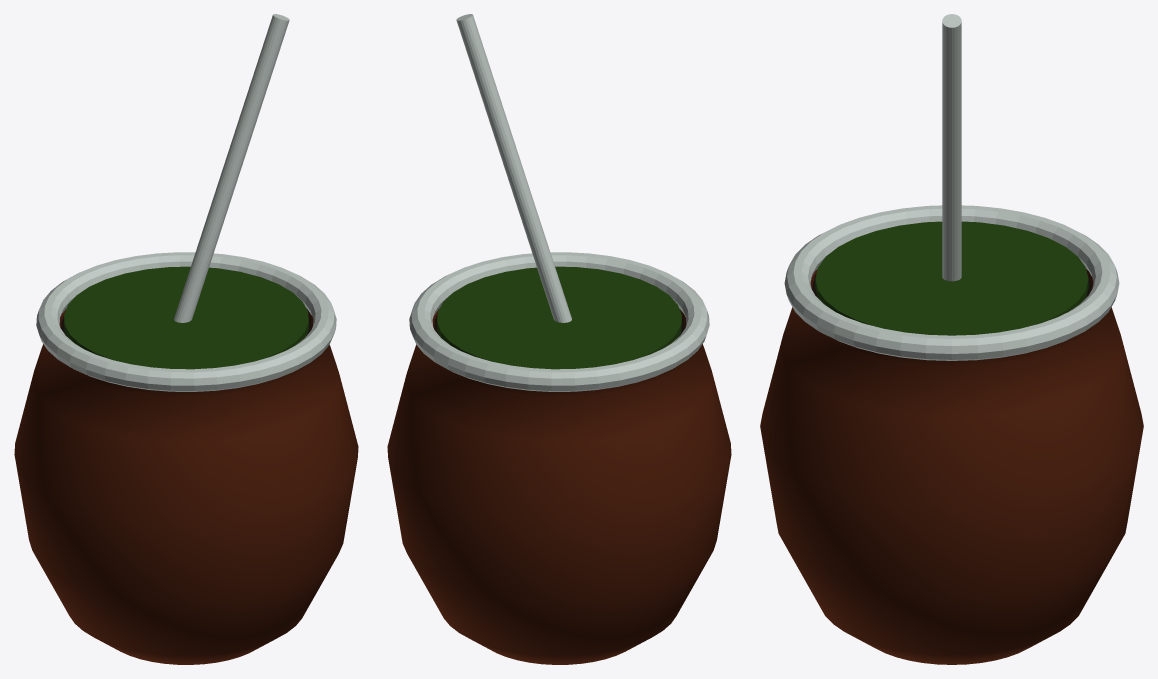
File: MatePreparado3D.fbx
3 views of the same model, side by side, from view 1: azimuth 30°, elevation 25°; view 2: azimuth 150°, elevation 25°; view 3: azimuth 270°, elevation 25° (orthographic). The views are drawn at different scales.
Visible parts, largest first — view 1: MatePreparado3D; view 2: MatePreparado3D; view 3: MatePreparado3D.
Boxes of the visible parts, <box> form: MatePreparado3D: <box>14,14,358,664</box>; MatePreparado3D: <box>387,14,731,664</box>; MatePreparado3D: <box>760,14,1143,664</box>.
Bounding box in the file's own units: 23.6 × 44.71 × 23.6.
